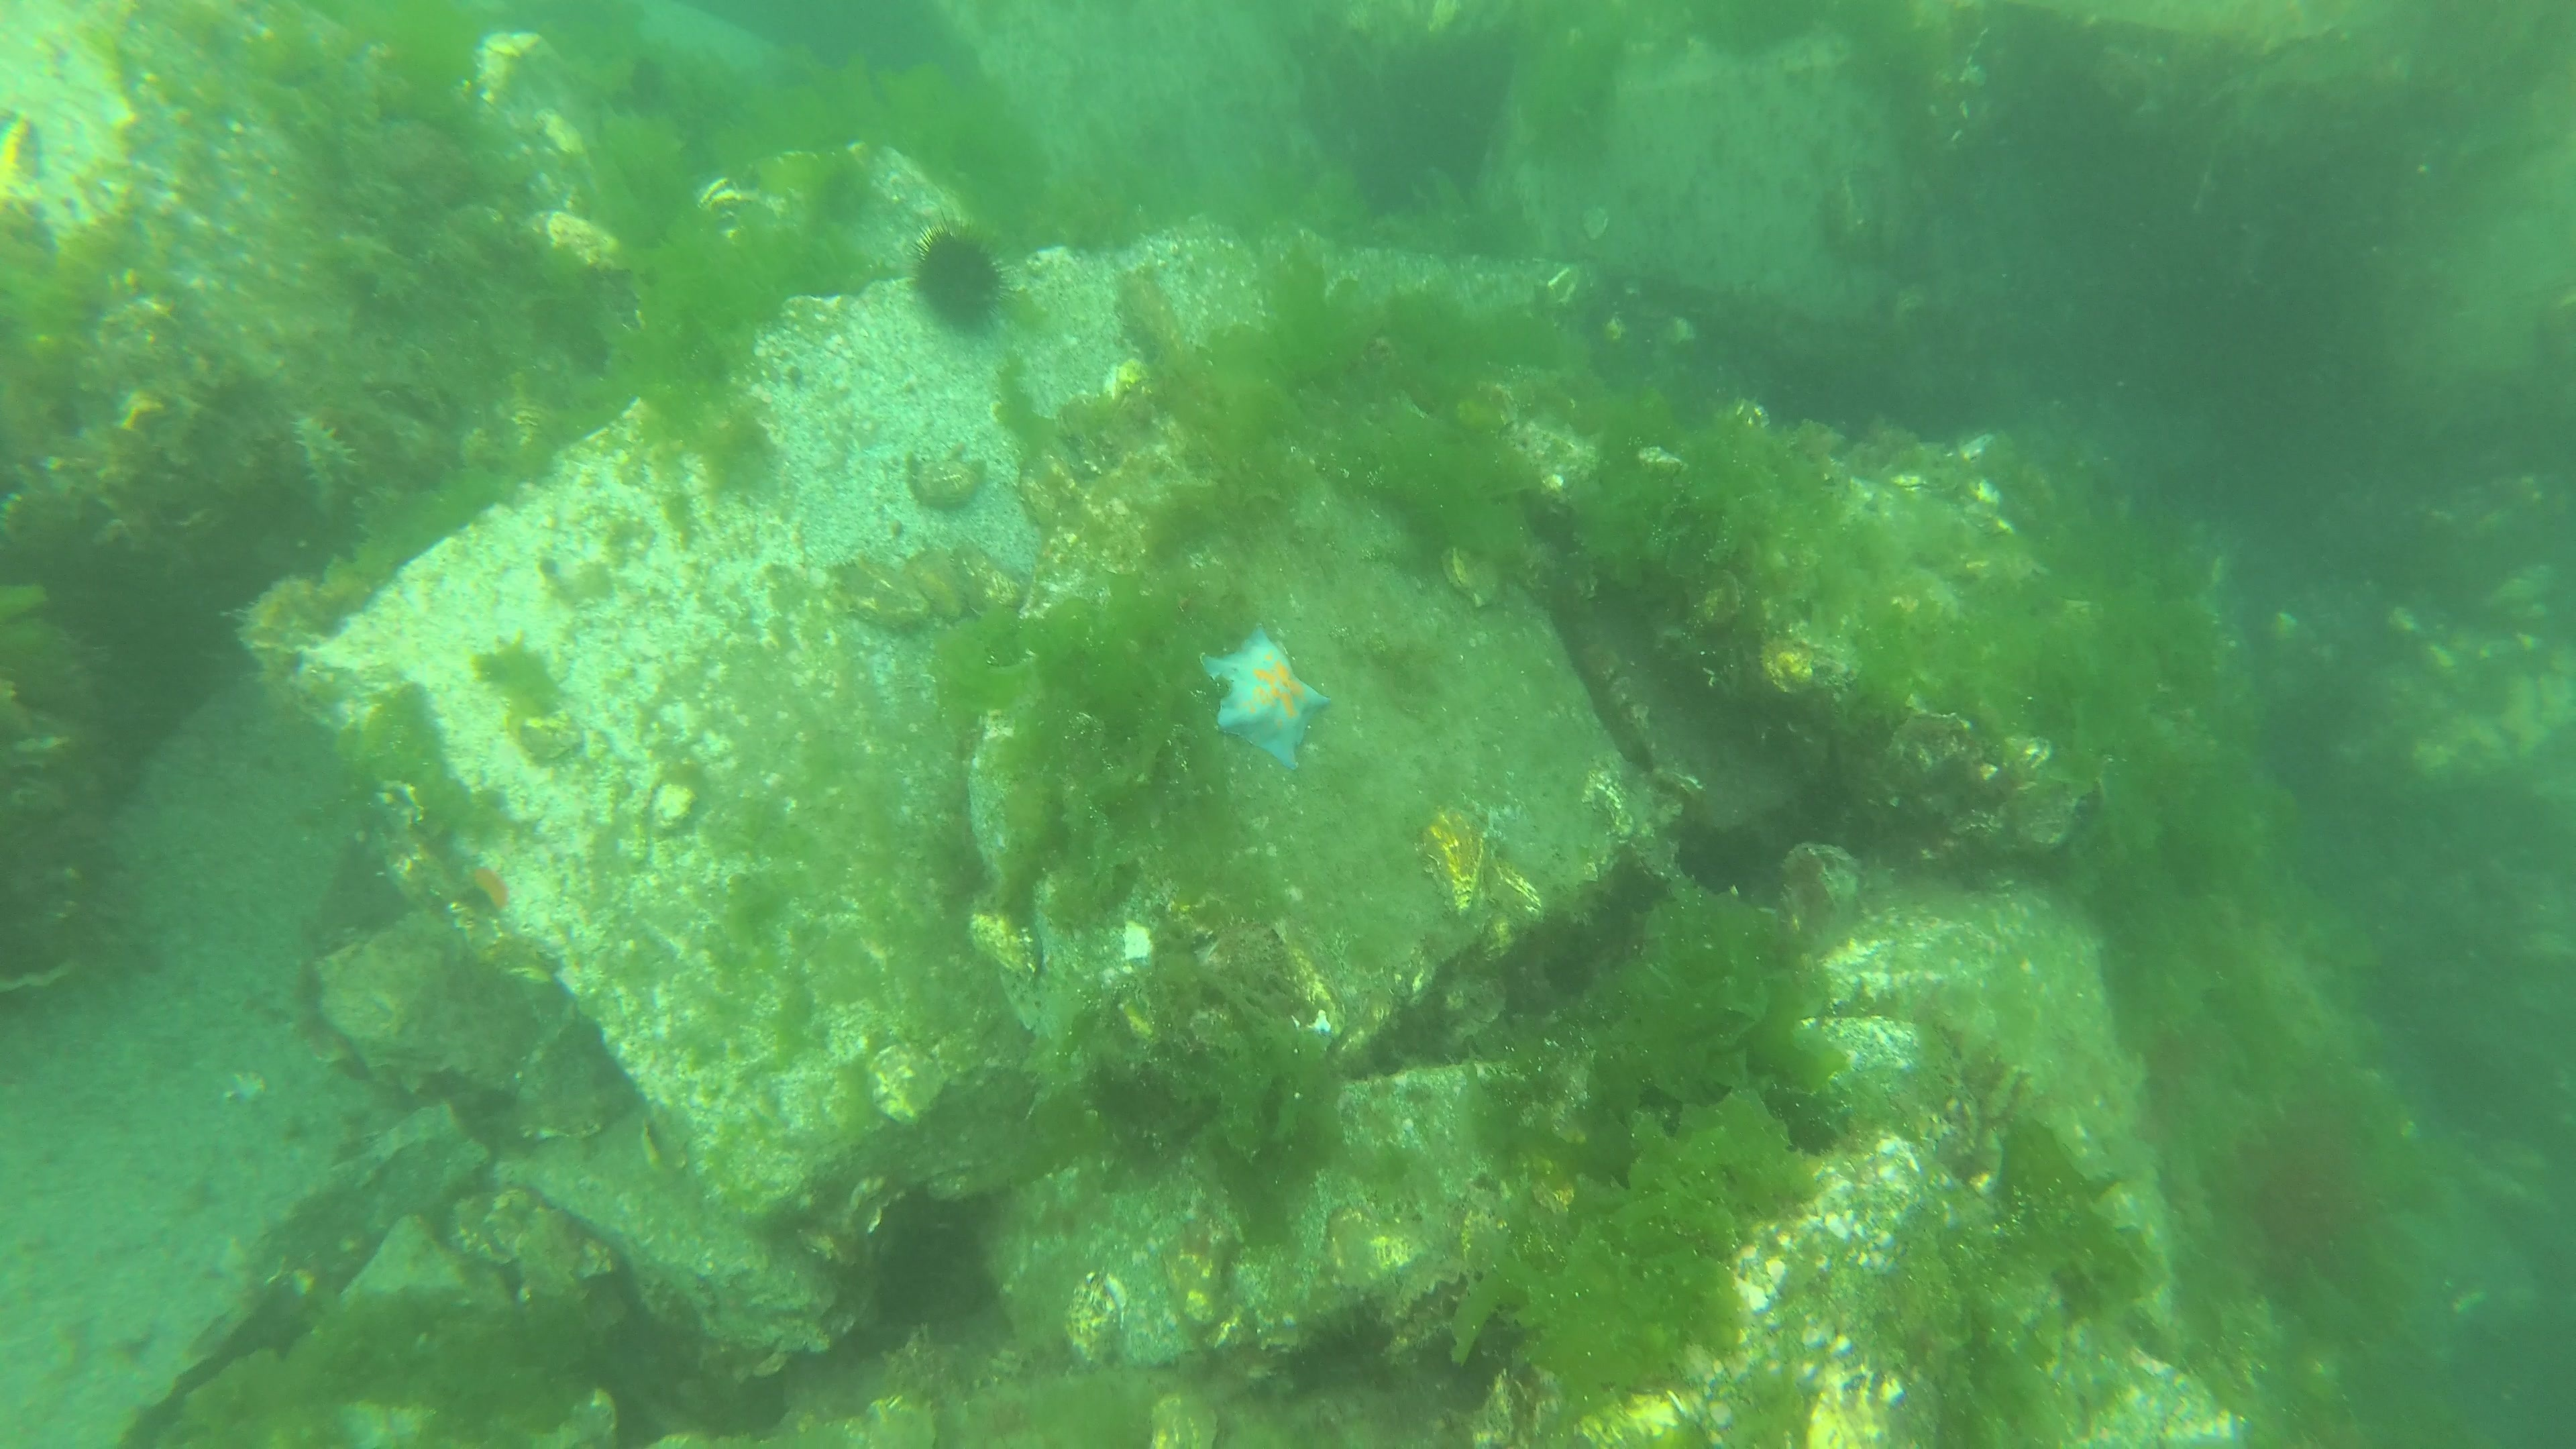echinus: (906, 205, 1019, 333), (1277, 1329, 1396, 1398), (630, 53, 671, 104)
holothurian: (288, 416, 361, 517)
scallop: (1433, 534, 1507, 612)
starfish: (1196, 617, 1338, 770)
